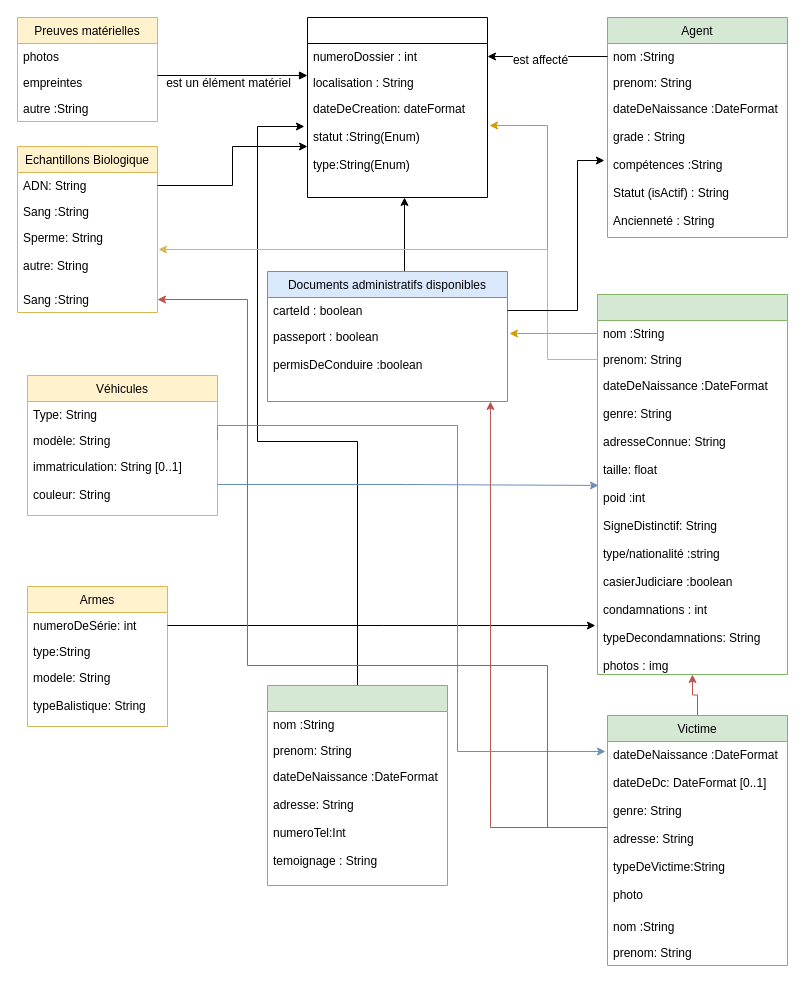
This 805x986 diagram has some shape labels left out. Here are the shapes that lost their labels. From the top down, the box of each, then its label:
(306, 16, 488, 198): Enquete
(596, 294, 788, 674): Suspect
(266, 684, 448, 886): Temoin
